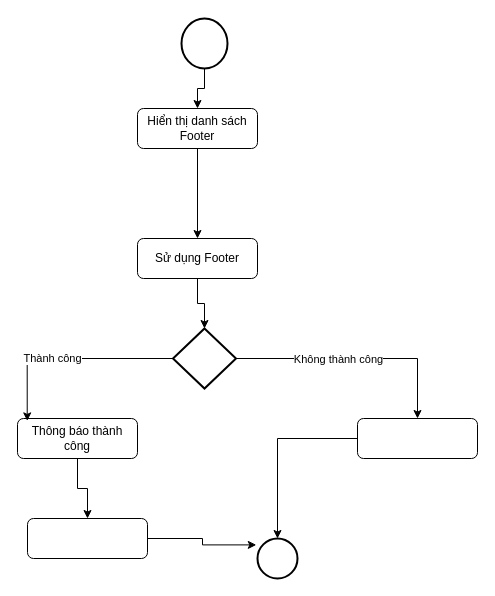
This 495x596 diagram has some shape labels left out. The box of each missing label's shape, as (x1, y1, x2, y2) in pixels:
Lấy dữ liệu Footer mới: (26, 518, 148, 558)
Thông báo lỗi: (356, 418, 478, 458)
